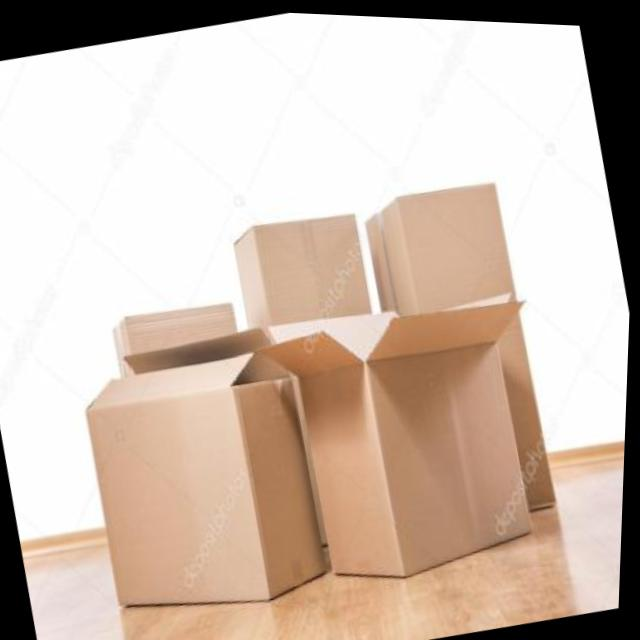box: (252, 247, 575, 597), (60, 315, 356, 640), (202, 172, 385, 351), (354, 163, 541, 327), (98, 251, 256, 379)
